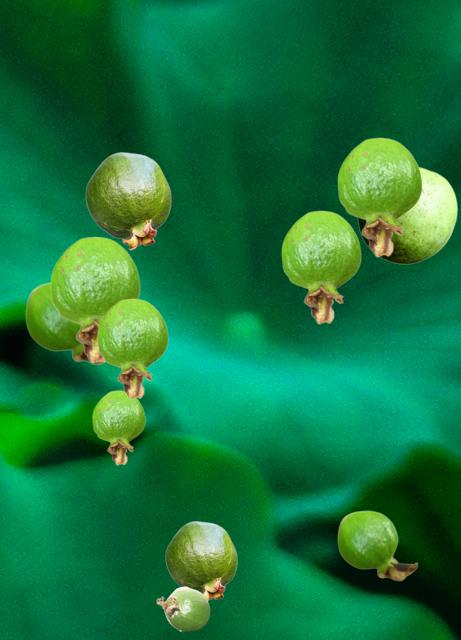guava: (50, 236, 139, 362), (337, 137, 421, 256), (357, 167, 456, 263), (281, 210, 360, 323), (85, 152, 170, 249), (97, 298, 167, 398), (25, 282, 104, 364), (165, 521, 236, 600), (337, 510, 417, 580), (92, 390, 144, 464), (156, 586, 209, 630)
